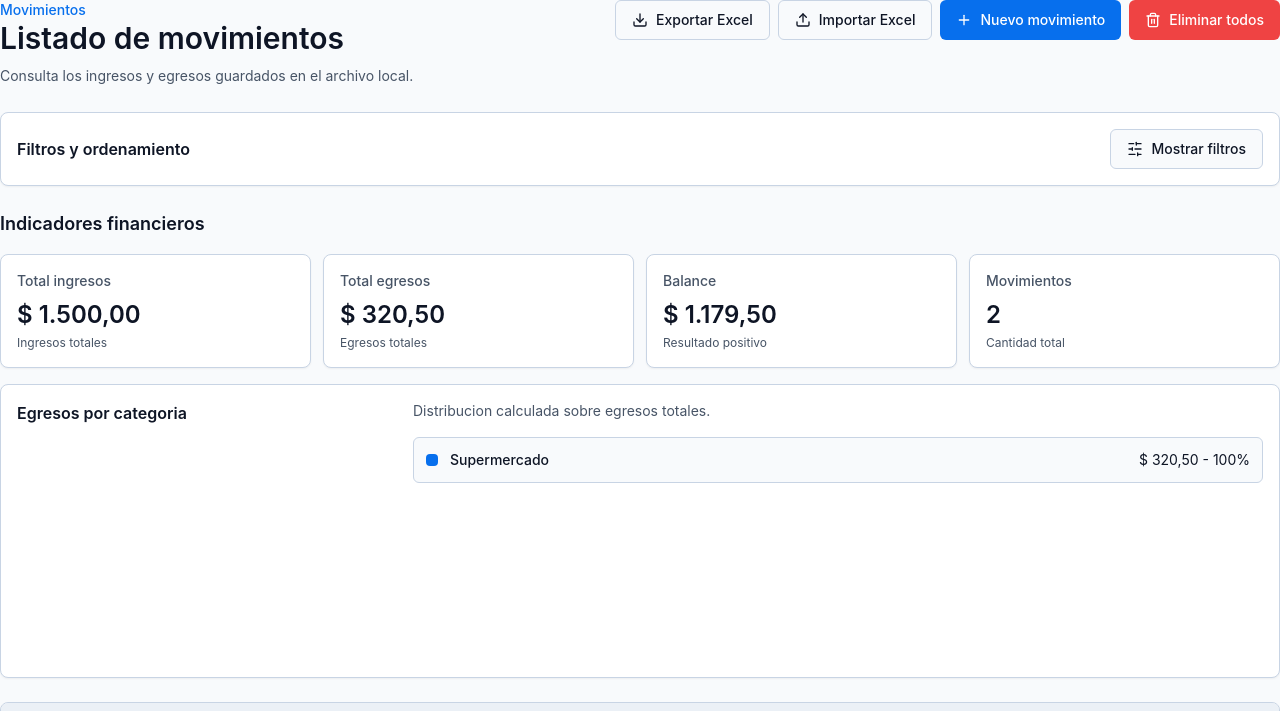
Test case: TransactionsPage › TransactionsPage_WhenFiltersMatchNothing_ShouldDistinguishFilteredEmptyState
The image size is (1280, 711).
Click the button "Mostrar filtros" at (1187, 149), box [1110, 129, 1263, 169]
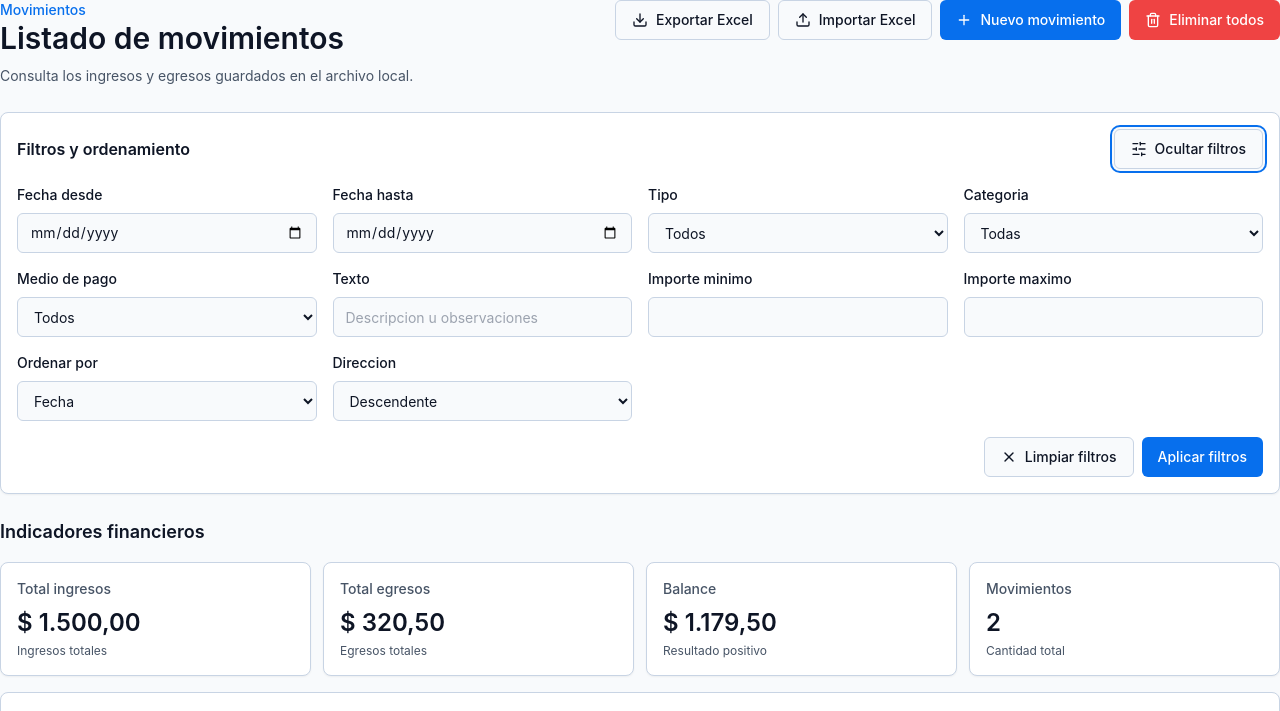
Type "no existe" into the field labelled "Texto" at (482, 317), box [332, 297, 632, 337]
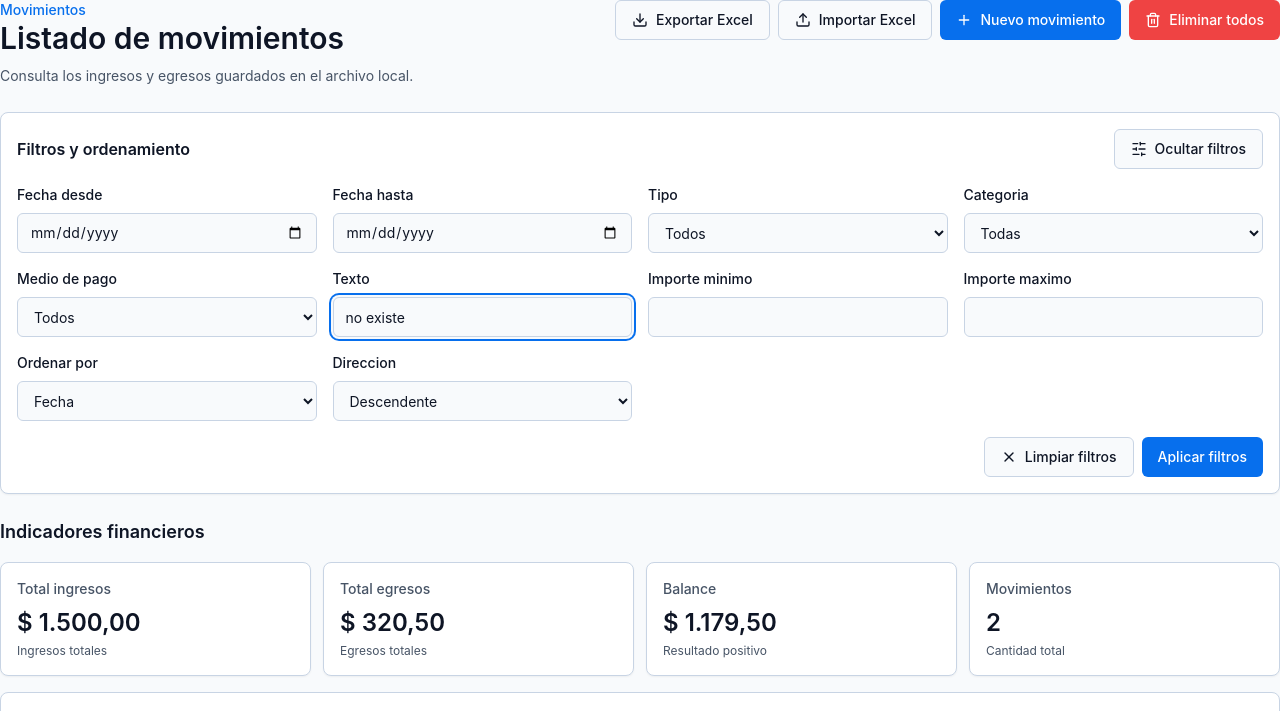
Click the button "Aplicar filtros" at (1202, 457), box [1142, 437, 1263, 477]
(page scrolled)
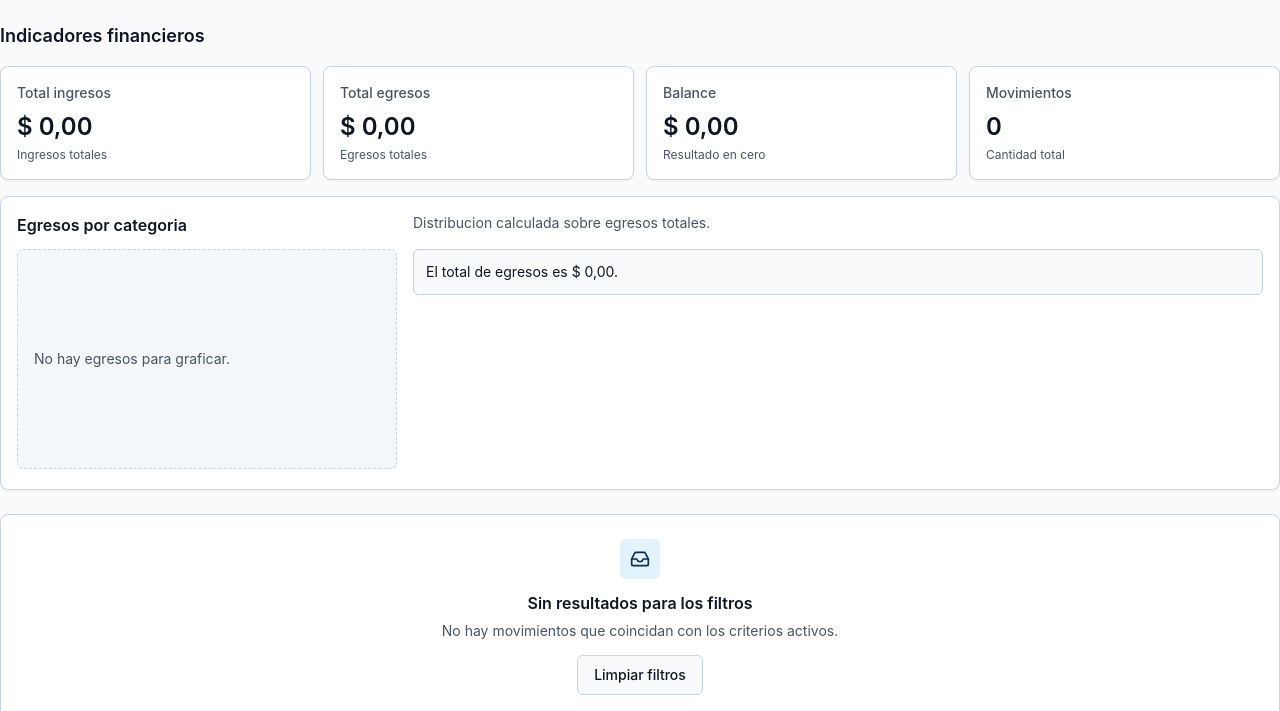
Expected: the heading "Sin resultados para los filtros" is shown, [528, 593, 752, 613]
